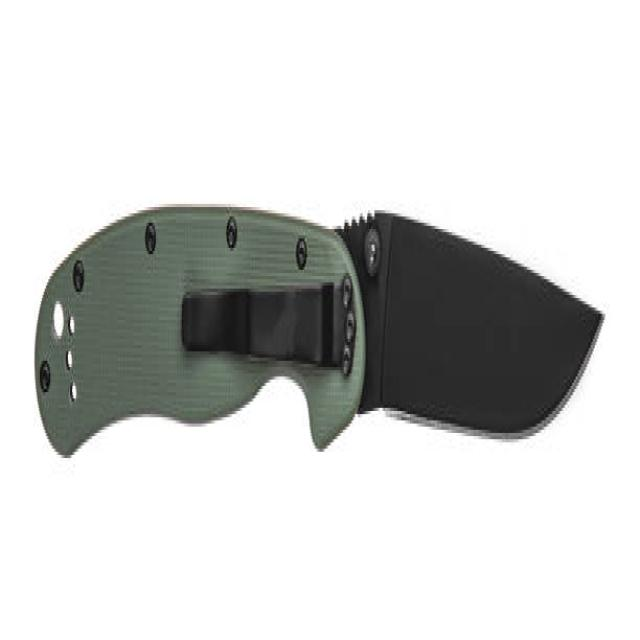knife: (32, 181, 611, 465)
